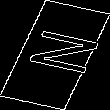N_E: (11, 28, 99, 82)
